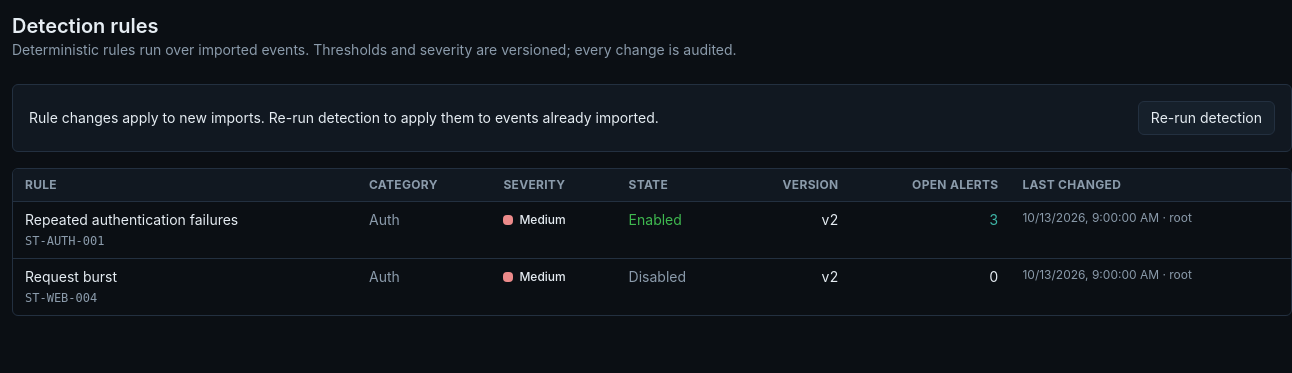
Test case: RulesPage › lists rules and lets admins re-run detection
This screenshot has width=1292, height=373.
Expected: the text "Disabled" is shown, [629,268,686,285]
Step 1. Click the button "Re-run detection" → [1206, 118], box [1138,101,1275,135]
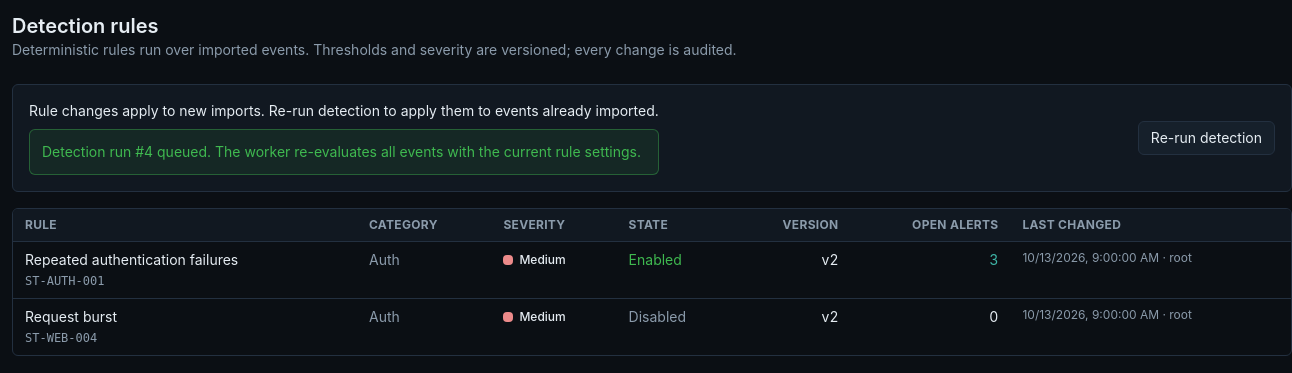
Expected: the text "Detection run #4 queued" is shown, [42,143,641,160]
